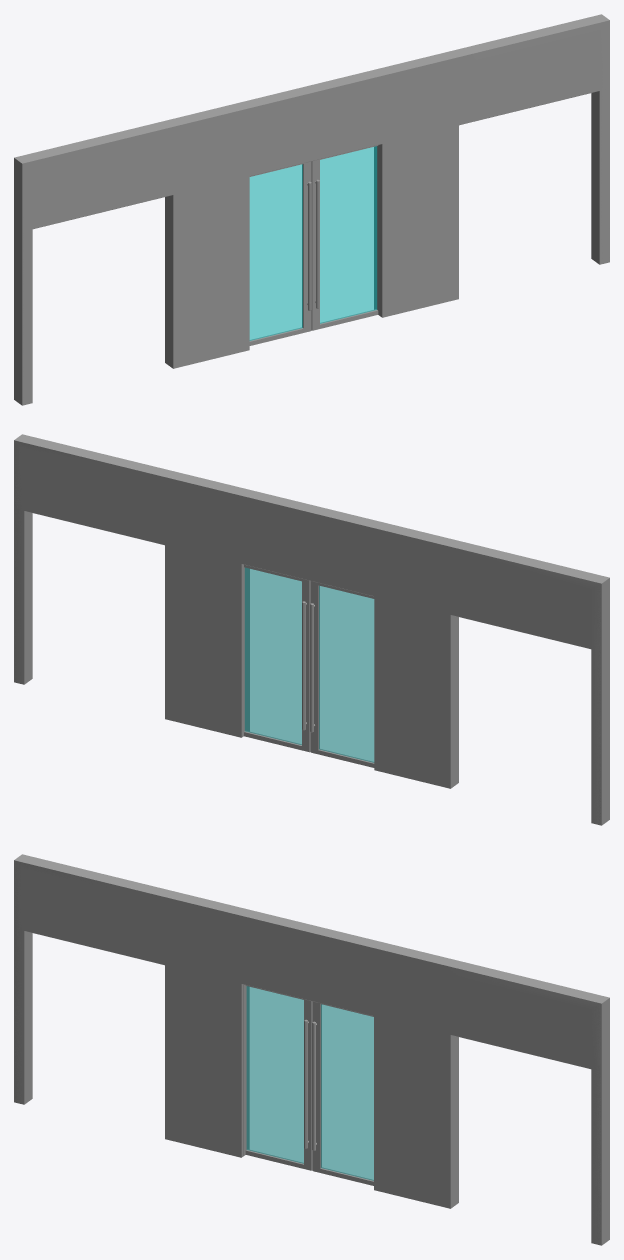
Rendered from Doors.fbx.
3 renders of one model, top to bottom at view 1: azimuth 30°, elevation 25°; view 2: azimuth 150°, elevation 25°; view 3: azimuth 330°, elevation 25°, orthographic.
Parts seen in each view (by area): view 1: Door_Frame_01_COL, Door_Frame_01, Door_Automatic_L, Door_Manual_L, Door_Automatic_R, Door_Manual_R; view 2: Door_Frame_01_COL, Door_Frame_01, Door_Automatic_L, Door_Automatic_R, Door_Manual_L, Door_Manual_R; view 3: Door_Frame_01_COL, Door_Frame_01, Door_Automatic_R, Door_Manual_R, Door_Automatic_L, Door_Manual_L.
Boxes of the visible parts, box(x1,y1,x2,y2) form: Door_Frame_01_COL: box(14, 14, 609, 405); Door_Frame_01: box(14, 20, 609, 405); Door_Automatic_L: box(311, 146, 378, 330); Door_Manual_L: box(315, 145, 378, 328); Door_Automatic_R: box(249, 162, 310, 345); Door_Manual_R: box(249, 161, 311, 345); Door_Frame_01_COL: box(14, 434, 609, 825); Door_Frame_01: box(14, 440, 609, 825); Door_Automatic_L: box(244, 565, 310, 752); Door_Automatic_R: box(310, 581, 374, 764); Door_Manual_L: box(244, 564, 306, 749); Door_Manual_R: box(310, 581, 374, 767); Door_Frame_01_COL: box(14, 854, 609, 1245); Door_Frame_01: box(14, 860, 609, 1244); Door_Automatic_R: box(245, 986, 312, 1170); Door_Manual_R: box(245, 985, 308, 1168); Door_Automatic_L: box(313, 1002, 373, 1185); Door_Manual_L: box(312, 1001, 373, 1180).
Size of the model in its own units: 721 by 284 by 18.96.
